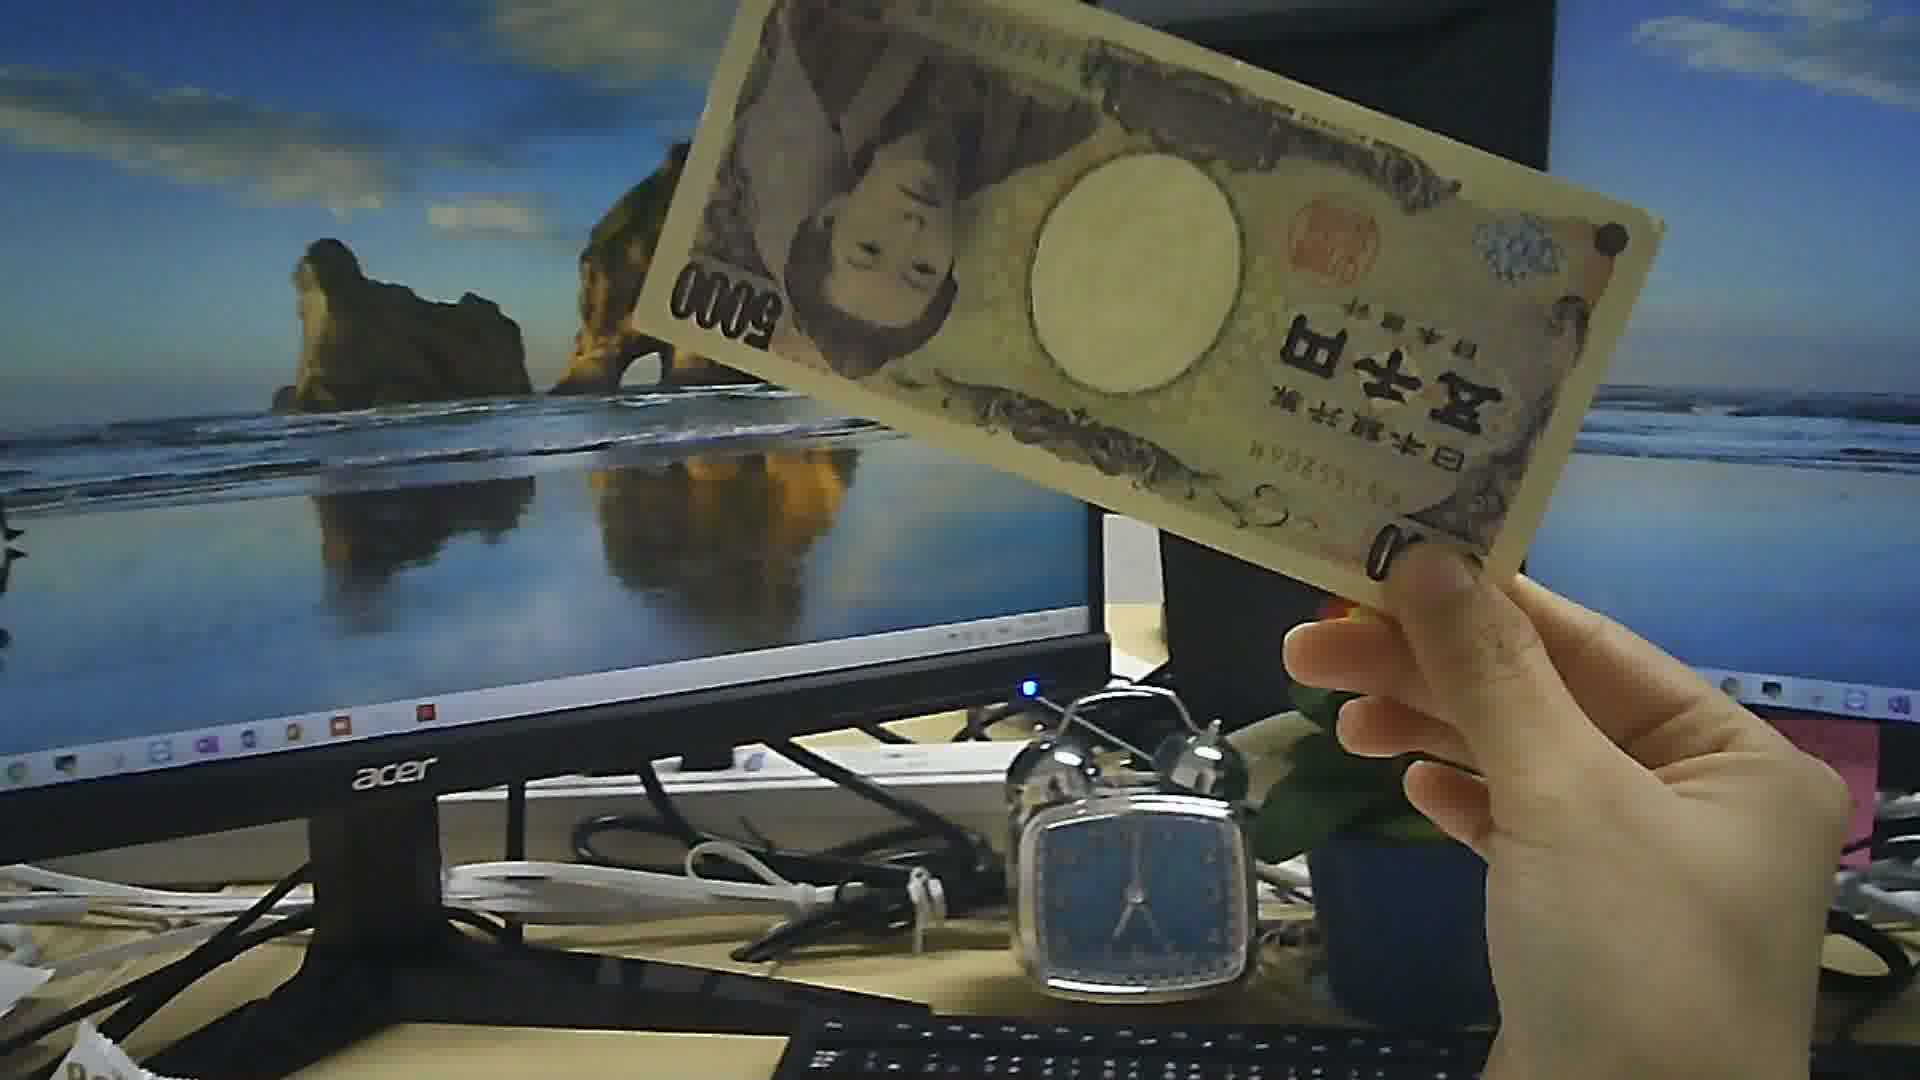5,000 Yen: (636, 3, 1660, 632)
